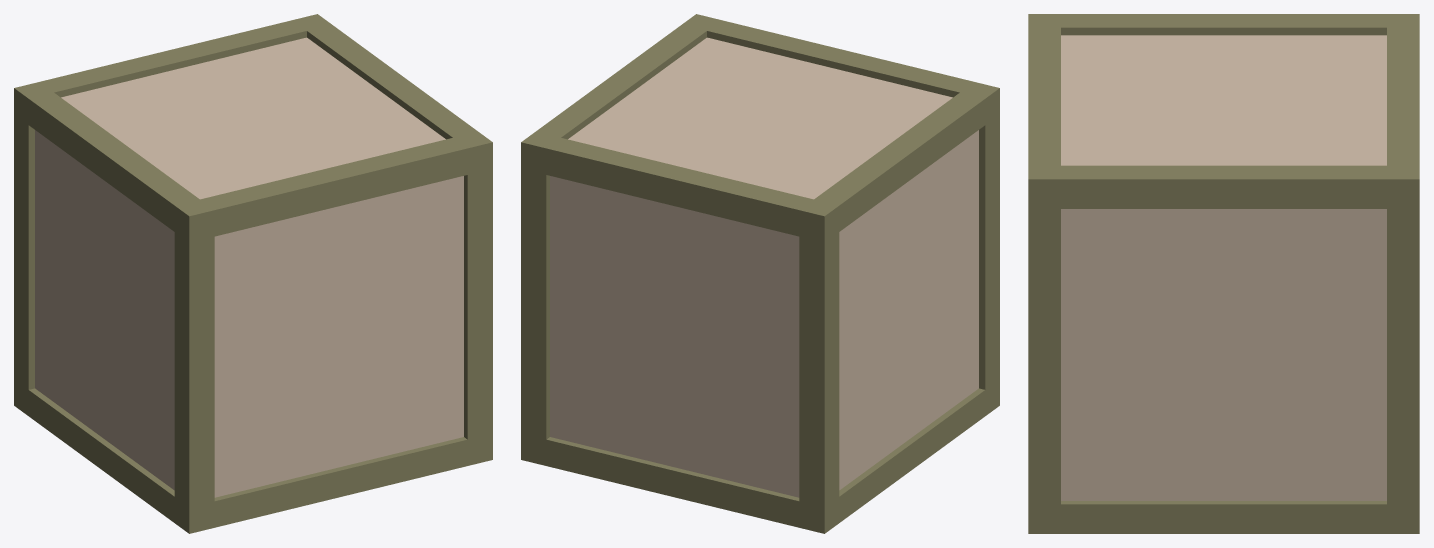
File: Crate.fbx
The picture shows the model from 3 angles, left to right: view 1: azimuth 30°, elevation 25°; view 2: azimuth 150°, elevation 25°; view 3: azimuth 270°, elevation 25°; orthographic projection. The views are drawn at different scales.
Parts seen in each view (by area): view 1: Crate; view 2: Crate; view 3: Crate.
Part boxes in pixels (bbox=[...]): Crate: bbox=[14, 14, 492, 533]; Crate: bbox=[521, 14, 999, 533]; Crate: bbox=[1028, 14, 1419, 533].
Bounding box in the file's own units: 1.2 × 1.2 × 1.2.
